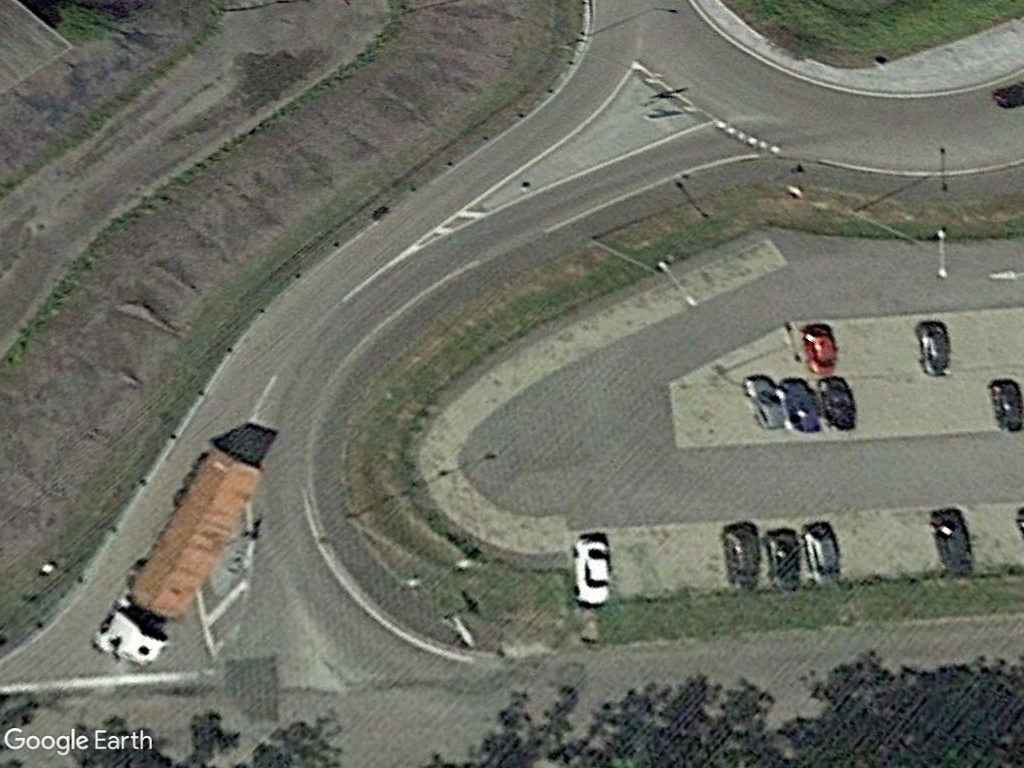car: (570, 535, 612, 609)
longvehicle: (93, 443, 269, 666)
